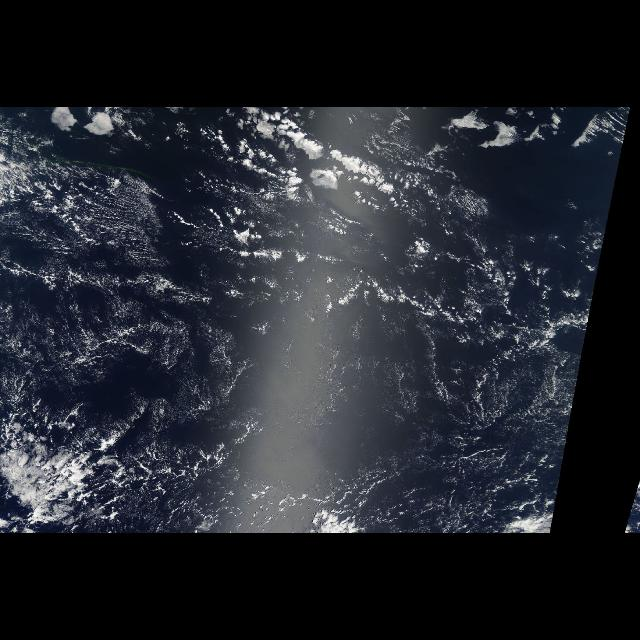Flower: (40, 108, 128, 142)
Gravel: (4, 267, 584, 533)
Sugar: (0, 153, 580, 509)
